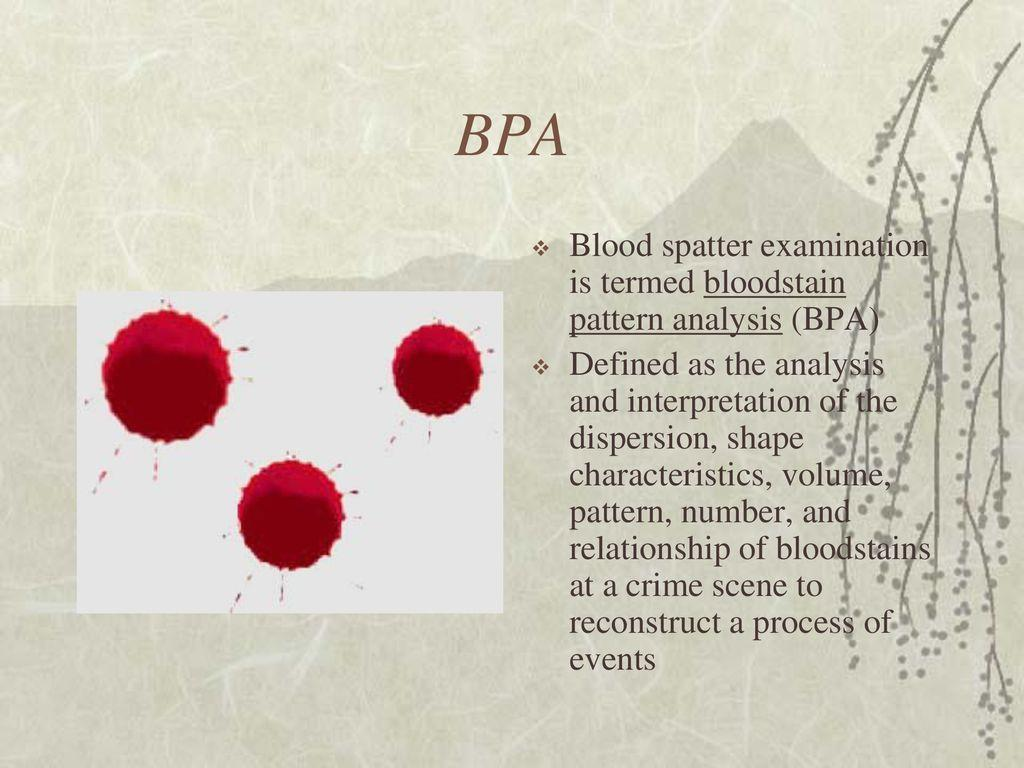Fire: (101, 305, 233, 443), (236, 459, 345, 571), (391, 323, 484, 418)
